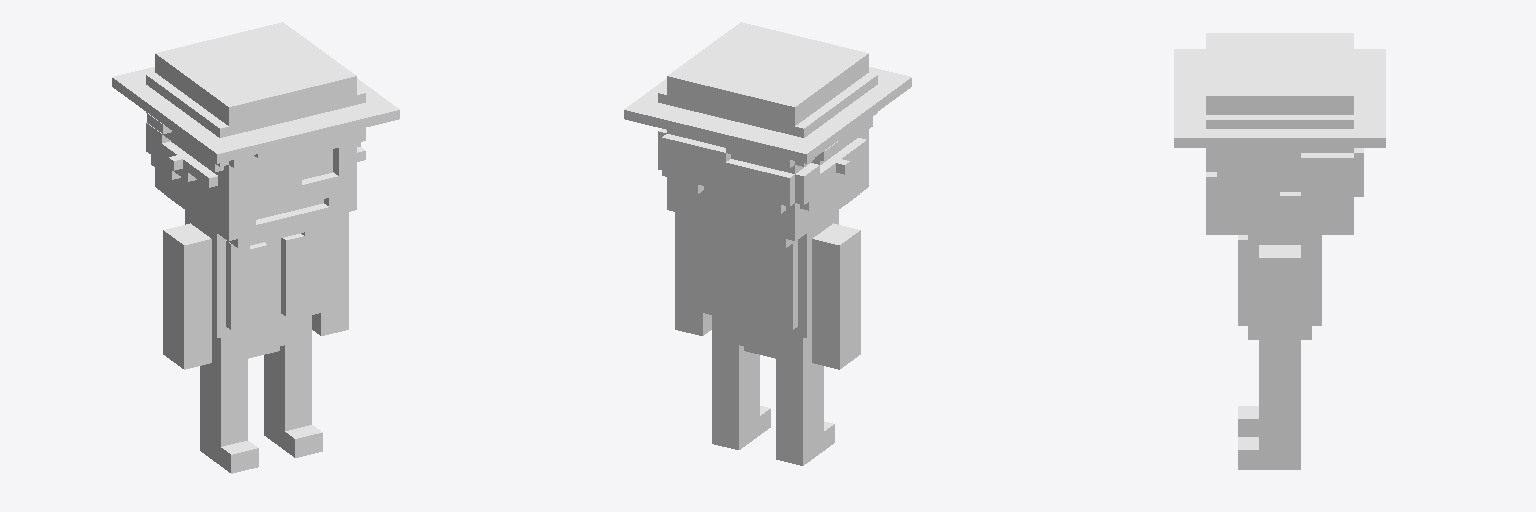
File: pirate2.obj
3 renders of one model, left to right at view 1: azimuth 30°, elevation 25°; view 2: azimuth 150°, elevation 25°; view 3: azimuth 270°, elevation 25°, orthographic.
Parts seen in each view (by area): view 1: object 1; view 2: object 1; view 3: object 1.
Part boxes in pixels (bbox=[...]): object 1: bbox=[112, 22, 399, 473]; object 1: bbox=[624, 22, 911, 465]; object 1: bbox=[1174, 33, 1385, 469].
Size of the model in its own units: 2 by 4 by 2.